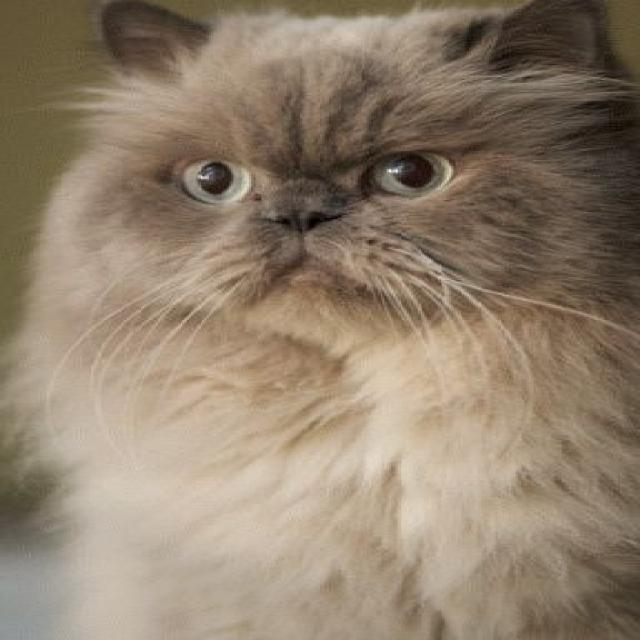Persian: (4, 0, 640, 640)
